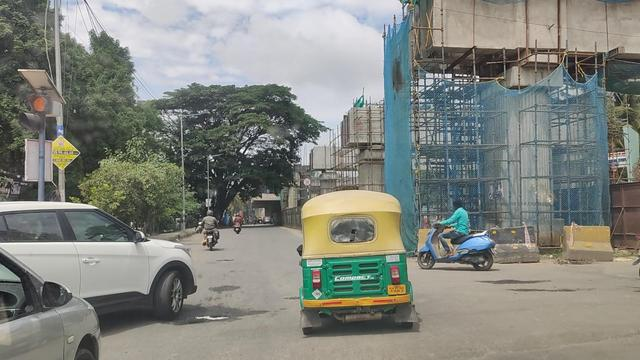LMV: (295, 187, 416, 336), (425, 195, 492, 278)
RoadDamages: (184, 298, 236, 327)
